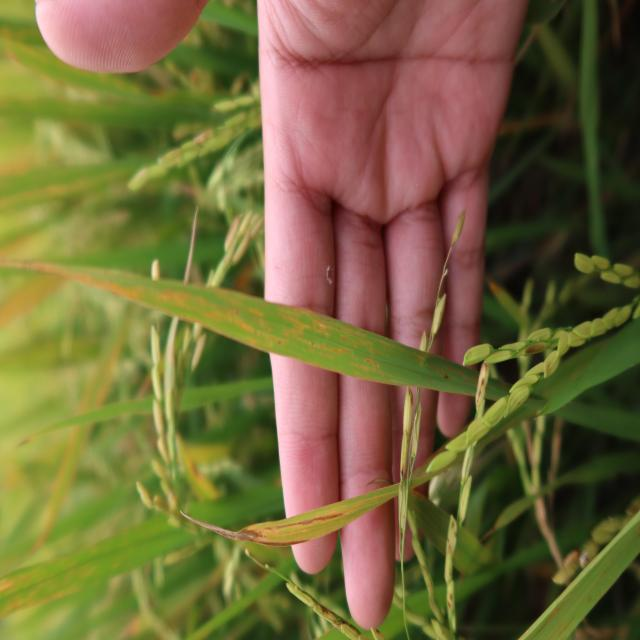Dom soc vi khuan: (173, 290, 285, 352), (280, 306, 376, 357)
